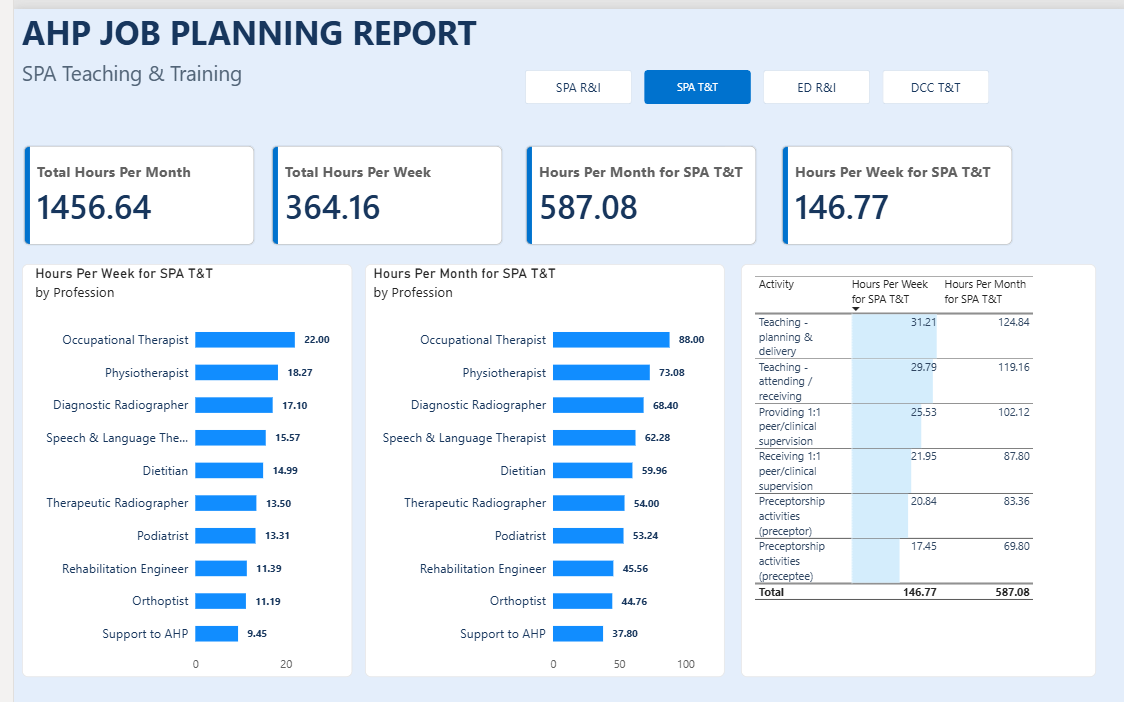

The page's visual inventory and layout, read from the dashboard file:
{"tool":"powerbi","page":{"name":"SPA T&T","canvas":[1440,900],"ordinal":1},"visuals":[{"type":"textbox","box":[10.3,0,595.9,78.9],"z":0},{"type":"textbox","box":[10,526,345,281],"z":1000},{"type":"textbox","box":[10.3,64.6,471.8,54.3],"z":2000},{"type":"pageNavigator","box":[660.5,78.9,600,44],"z":3000},{"type":"cardVisual","fields":{"Data":["Measure.Total Hours Per Month"]},"box":[11.6,175.8,300,130],"z":4000},{"type":"cardVisual","fields":{"Data":["Measure.Total Hours Per Week"]},"box":[332.2,175.8,300,130],"z":5000},{"type":"cardVisual","fields":{"Data":["Measure.Hours Per Month for SPA T&T"]},"box":[660.5,175.8,300,130],"z":6000},{"type":"cardVisual","fields":{"Data":["Measure.Hours Per Week for SPA T&T"]},"box":[991.5,175.8,300,130],"z":7000},{"type":"clusteredBarChart","title":"Hours Per Month for SPA T&T","fields":{"Category":["Dim_Profession.Position Title"],"Y":["Measure.Hours Per Month for SPA T&T"]},"box":[453.7,329.6,465.4,533.9],"z":8000},{"type":"clusteredBarChart","title":"Hours Per Week for SPA T&T","fields":{"Category":["Dim_Profession.Position Title"],"Y":["Measure.Hours Per Week for SPA T&T"]},"box":[10.3,329.6,426.6,533.9],"z":9000},{"type":"tableEx","fields":{"Values":["Fact_Activity.Activity","Measure.Hours Per Week for SPA T&T","Measure.Hours Per Month for SPA T&T"]},"box":[939.7,329.6,458.9,533.9],"z":10000}]}

Visuals, with their boxes in screenshot pixels (x1, y1, x2, y2), scaled from the page's 1440x900 canvas onto the 1124x702 screenshot:
textbox: bbox=[8, 0, 473, 62]
textbox: bbox=[8, 410, 277, 629]
textbox: bbox=[8, 50, 376, 93]
pageNavigator: bbox=[516, 62, 984, 96]
cardVisual - Measure.Total Hours Per Month: bbox=[9, 137, 243, 239]
cardVisual - Measure.Total Hours Per Week: bbox=[259, 137, 493, 239]
cardVisual - Measure.Hours Per Month for SPA T&T: bbox=[516, 137, 750, 239]
cardVisual - Measure.Hours Per Week for SPA T&T: bbox=[774, 137, 1008, 239]
"Hours Per Month for SPA T&T" clusteredBarChart: bbox=[354, 257, 717, 674]
"Hours Per Week for SPA T&T" clusteredBarChart: bbox=[8, 257, 341, 674]
tableEx - Fact_Activity.Activity x Measure.Hours Per Week for SPA T&T: bbox=[733, 257, 1092, 674]
